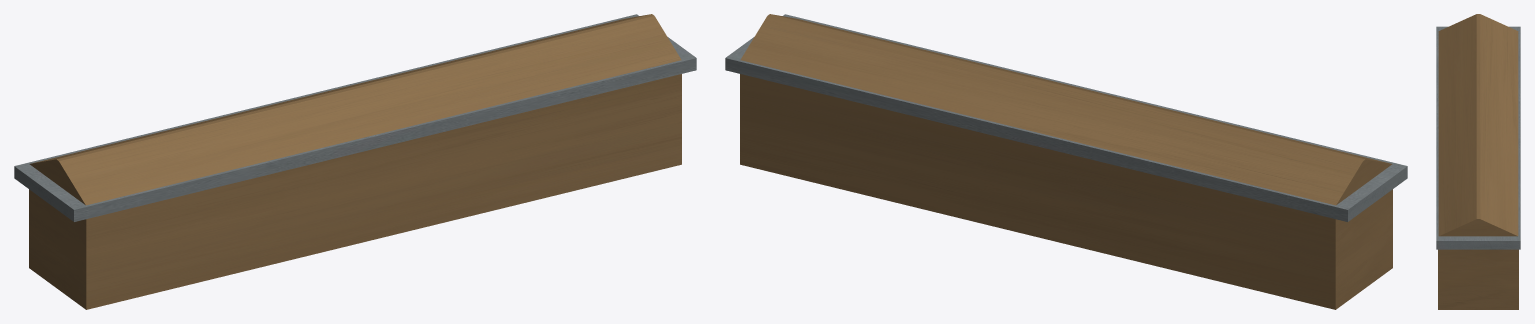
The model's file is BumperRailingx6.glb.
3 views of the same model, side by side, from view 1: azimuth 30°, elevation 25°; view 2: azimuth 150°, elevation 25°; view 3: azimuth 270°, elevation 25° (orthographic). The views are drawn at different scales.
Parts seen in each view (by area): view 1: BumperRailingx6; view 2: BumperRailingx6; view 3: BumperRailingx6.
Boxes of the visible parts, x1,y1,x2,y2 form: BumperRailingx6: (14,14,696,309); BumperRailingx6: (725,14,1407,309); BumperRailingx6: (1436,14,1520,309).
Size of the model in its own units: 12.54 by 2.48 by 2.09.
2 materials, 2 textured.
